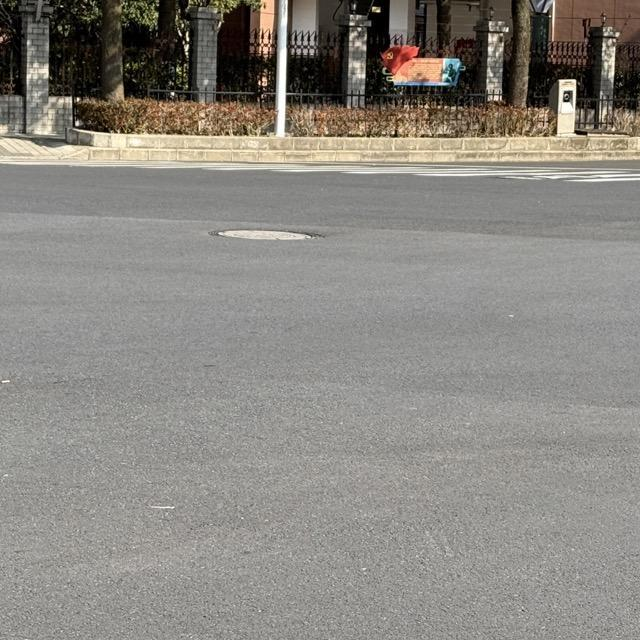curb: (68, 130, 639, 152), (53, 147, 639, 164)
